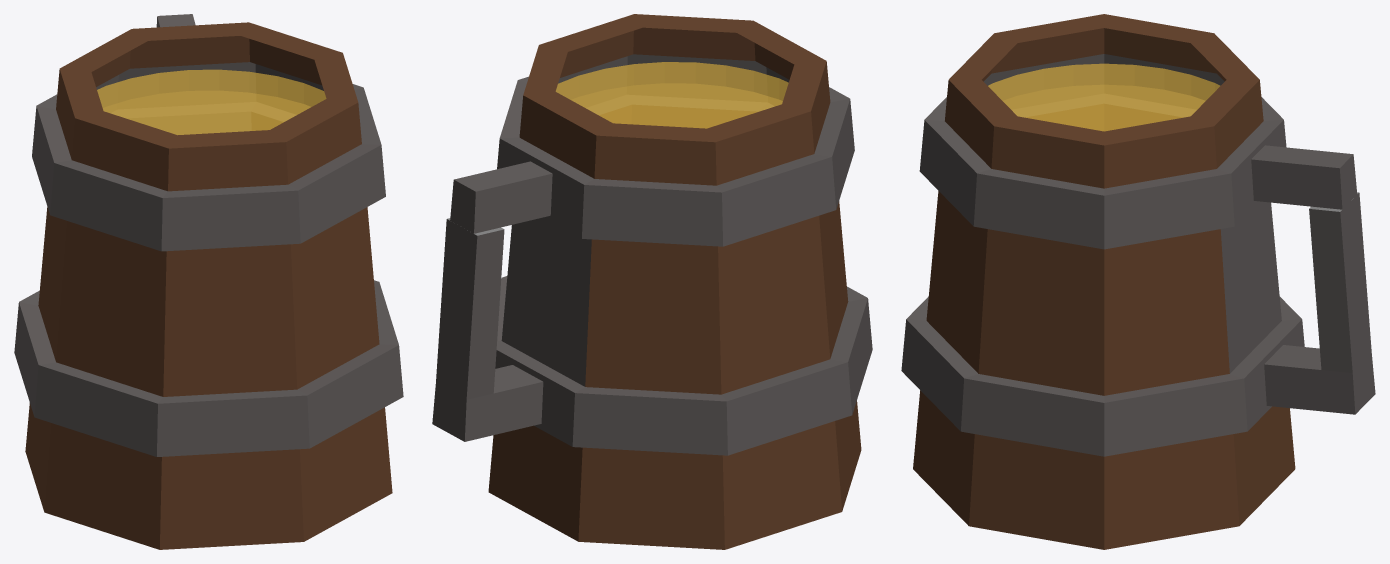
The model's file is beer.fbx.
The picture shows the model from 3 angles, left to right: view 1: azimuth 30°, elevation 25°; view 2: azimuth 150°, elevation 25°; view 3: azimuth 270°, elevation 25°; orthographic projection.
Parts seen in each view (by area): view 1: Circle, Circle.001, Cylinder; view 2: Circle, Circle.001, Cylinder; view 3: Circle, Circle.001, Cylinder.
Part boxes in pixels (left/top/right/bottom): Circle: left=25, top=22, right=392, bottom=549; Circle.001: left=14, top=14, right=403, bottom=456; Cylinder: left=97, top=69, right=326, bottom=135; Circle: left=447, top=14, right=861, bottom=549; Circle.001: left=432, top=54, right=872, bottom=455; Cylinder: left=555, top=62, right=788, bottom=128; Circle: left=913, top=14, right=1358, bottom=549; Circle.001: left=901, top=54, right=1375, bottom=456; Cylinder: left=988, top=63, right=1220, bottom=131.
Size of the model in its own units: 212 by 225 by 248.
